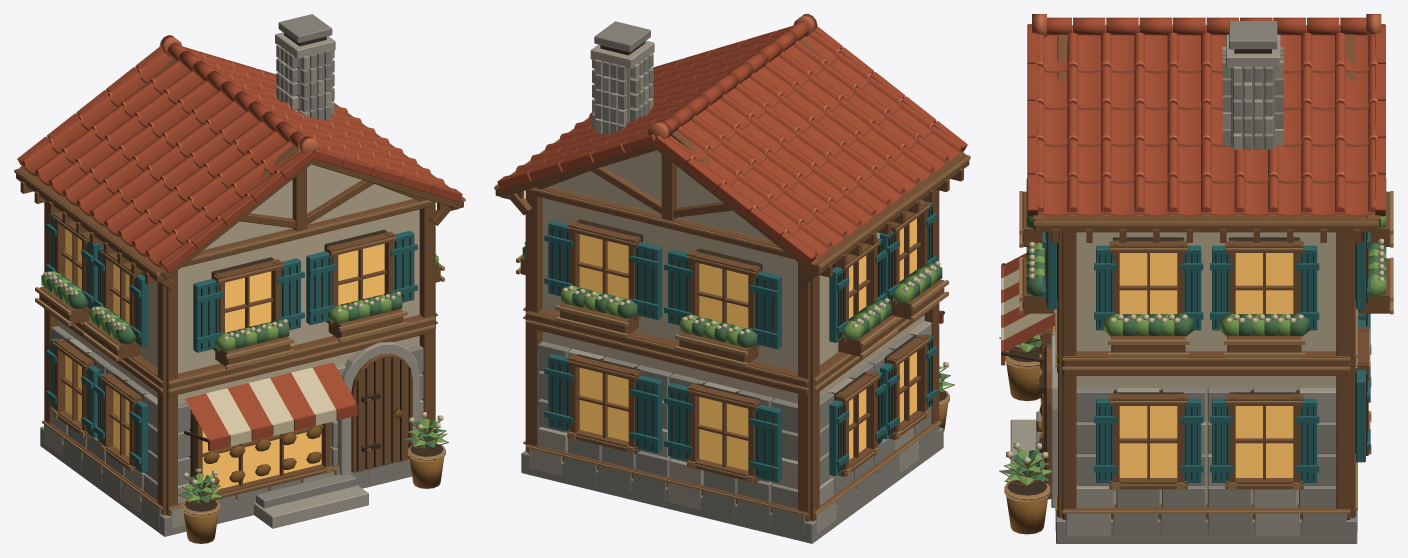
The picture shows the model from 3 angles, left to right: view 1: azimuth 30°, elevation 25°; view 2: azimuth 150°, elevation 25°; view 3: azimuth 270°, elevation 25°; orthographic projection. The views are drawn at different scales.
Visible parts, largest first — view 1: alpine_shop_2_geometry; view 2: alpine_shop_2_geometry; view 3: alpine_shop_2_geometry.
Boxes of the visible parts, x1,y1,x2,y2 form: alpine_shop_2_geometry: [14, 14, 465, 543]; alpine_shop_2_geometry: [494, 14, 970, 543]; alpine_shop_2_geometry: [999, 14, 1393, 543].
Size of the model in its own units: 0.99 by 1.15 by 0.8515.
